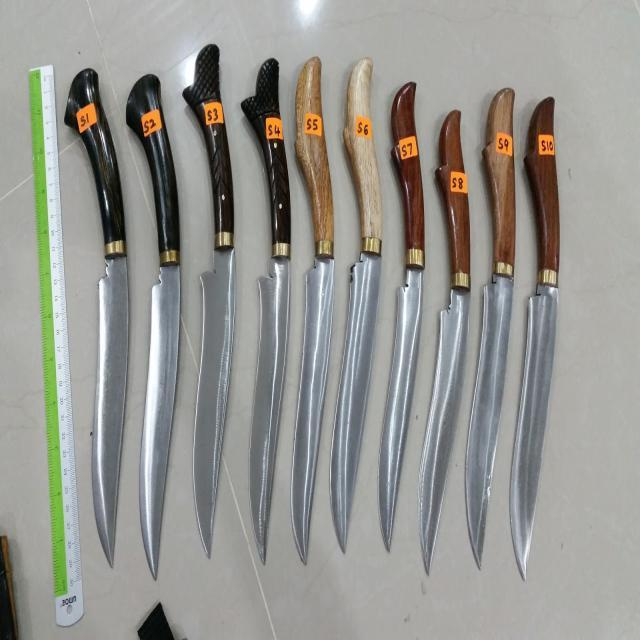Pisau: (55, 45, 141, 572)
